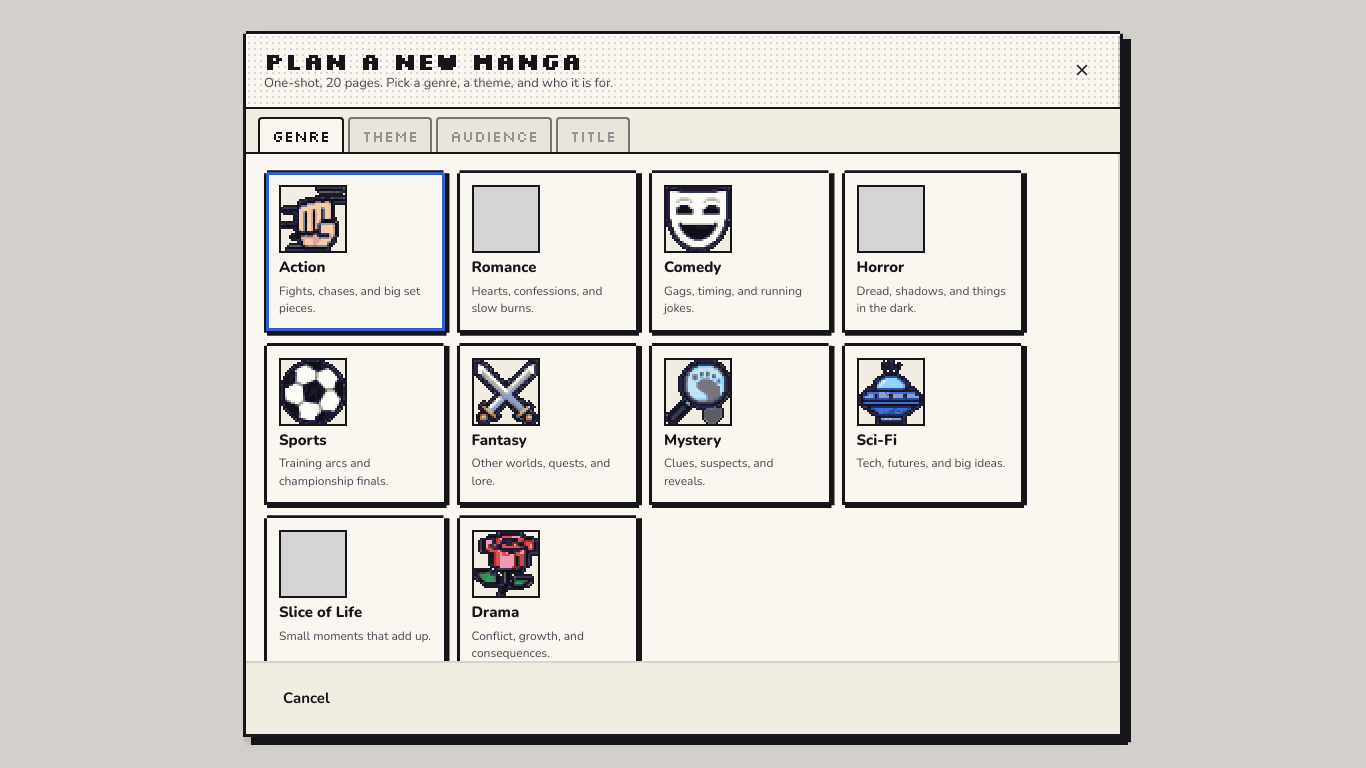
it: NewMangaWizard › the title step shows the title field beside what you know
Click the button "Action Fights, chases, and big set pieces.": (355, 251) [264, 170, 446, 333]
(page scrolled)
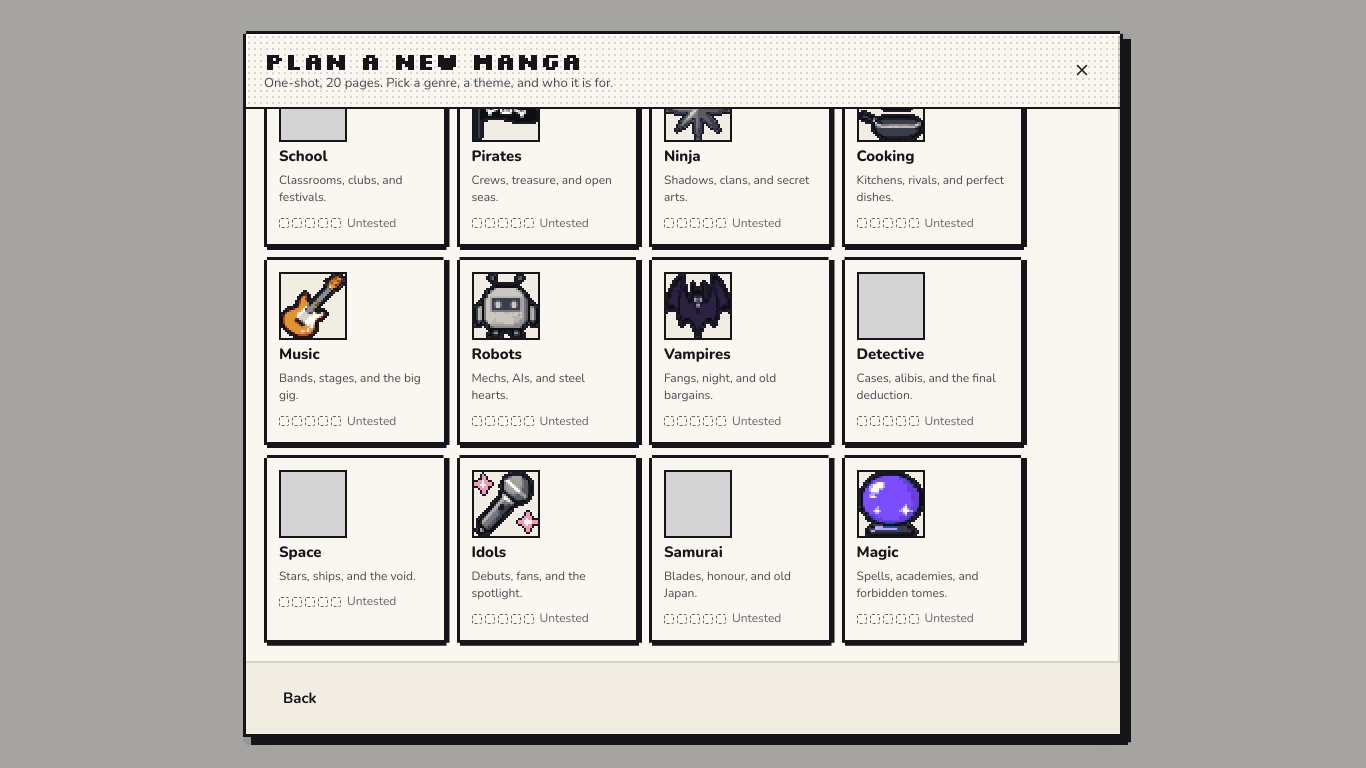
Click the button "Samurai Blades, honour, and old Japan. Untested": (740, 549) [649, 455, 832, 643]
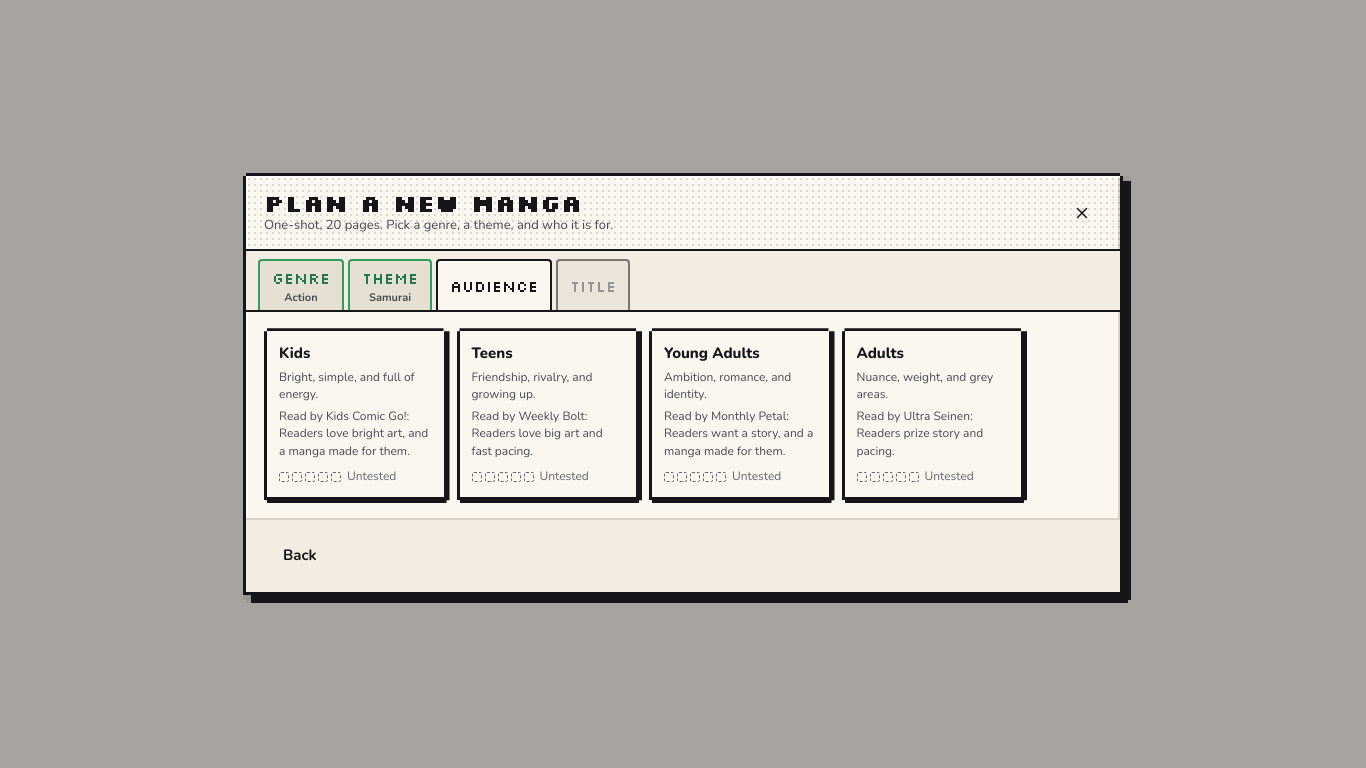
Click the button "Teens": (548, 414) [456, 328, 639, 500]
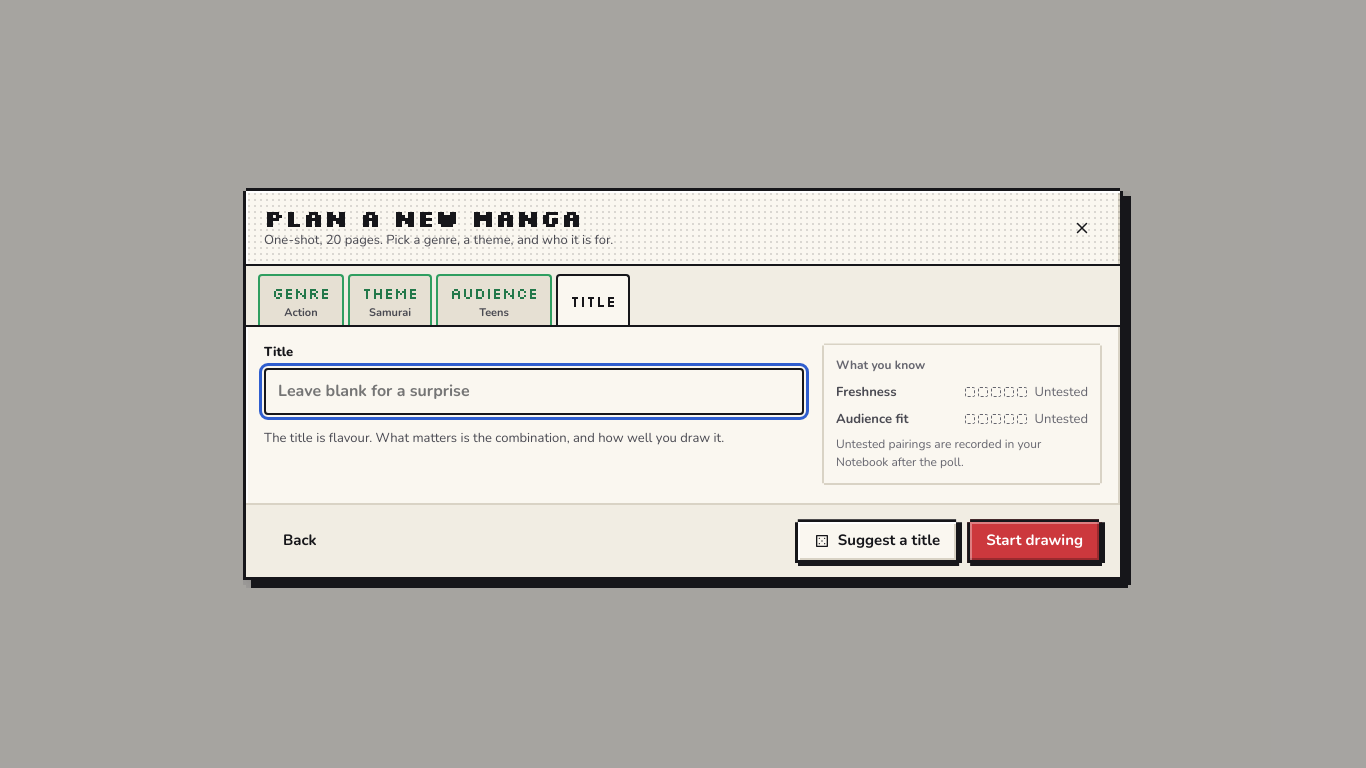
expect the field is shown: met, box [264, 368, 804, 415]
expect the text "What you know" is shown: met, box [836, 357, 925, 373]
expect the text "Freshness" is shown: met, box [836, 383, 896, 402]
